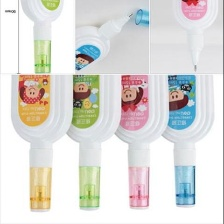correction_fluid: (7, 52, 74, 214), (105, 53, 170, 211), (60, 52, 124, 212), (155, 53, 216, 208), (56, 11, 135, 75), (17, 0, 66, 74), (171, 0, 220, 74)
